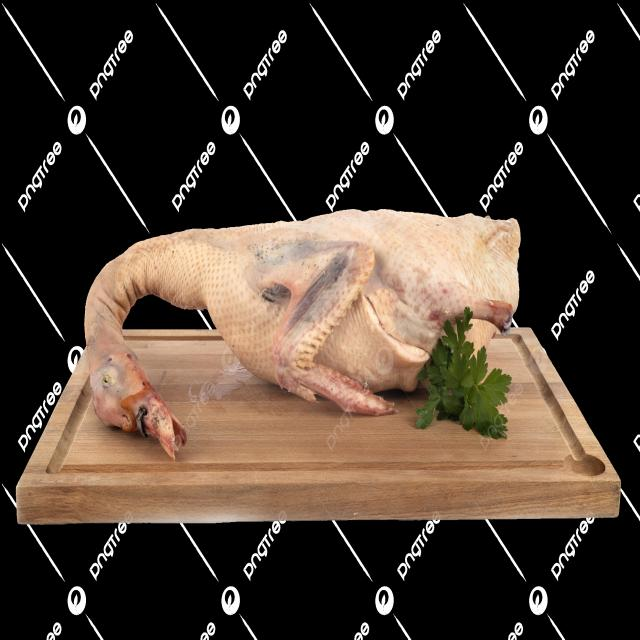duck: (85, 211, 520, 455)
